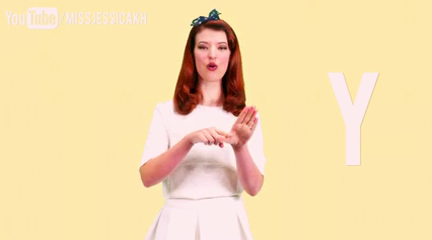Y: (189, 101, 262, 150)
